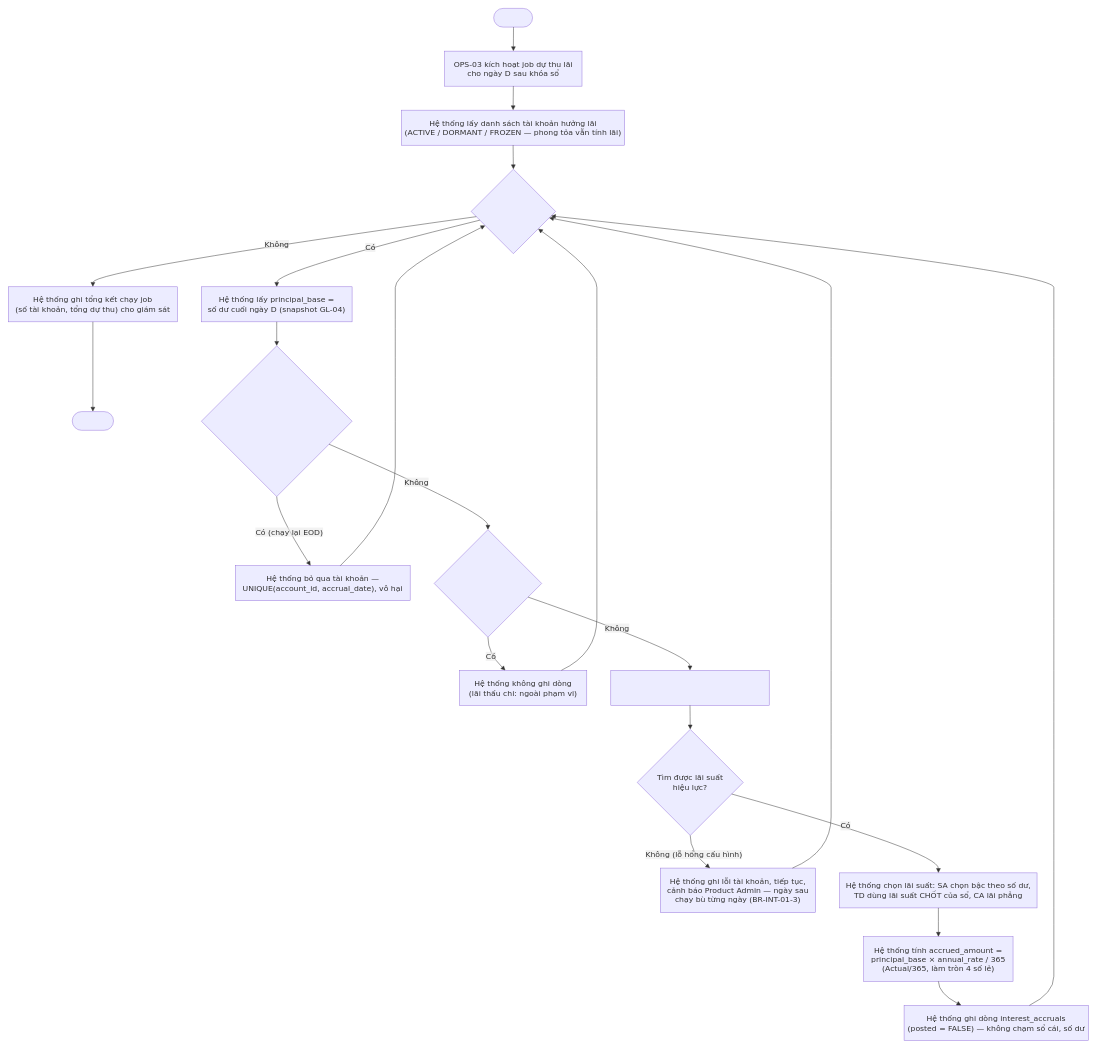
The diagram is 1097 pixels wide and 1049 high, and some of its shapes have lost their labels. The shapes that lost their labels are listed below. From the top down, each one's centre as x and y in pixels, then its label:
At point (513, 17): "Bắt đầu".
At point (513, 211): "Còn tài khoản chưa xử lý?".
At point (93, 420): "Kết thúc".
At point (276, 421): "Dòng accrual (account, D) đã tồn tại?".
At point (488, 583): "Số dư ≤ 0 (0 hoặc thấu chi)?".
At point (689, 687): "Hệ thống hỏi Product Service biểu lãi của sản phẩm hiệu lực TẠI ngày D".
